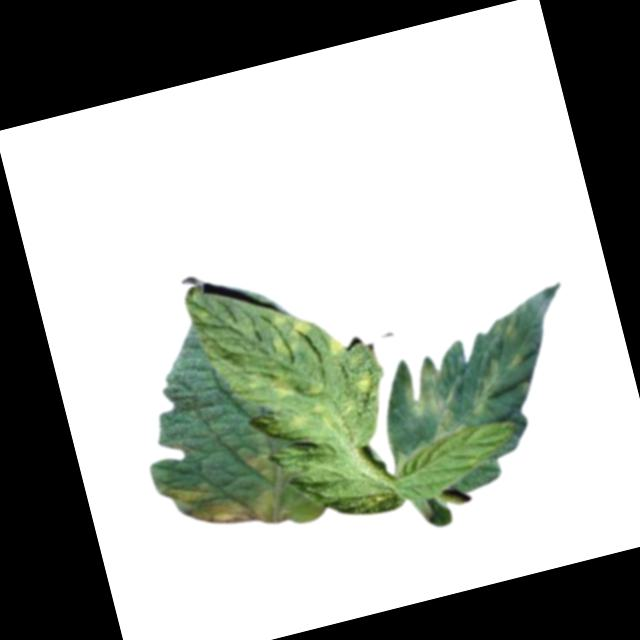Leaf_Mold: (395, 353, 465, 444), (184, 483, 283, 543), (265, 301, 319, 362), (160, 471, 214, 511), (243, 445, 286, 485), (268, 367, 299, 403), (350, 366, 377, 396), (286, 406, 312, 431), (327, 332, 346, 358)
